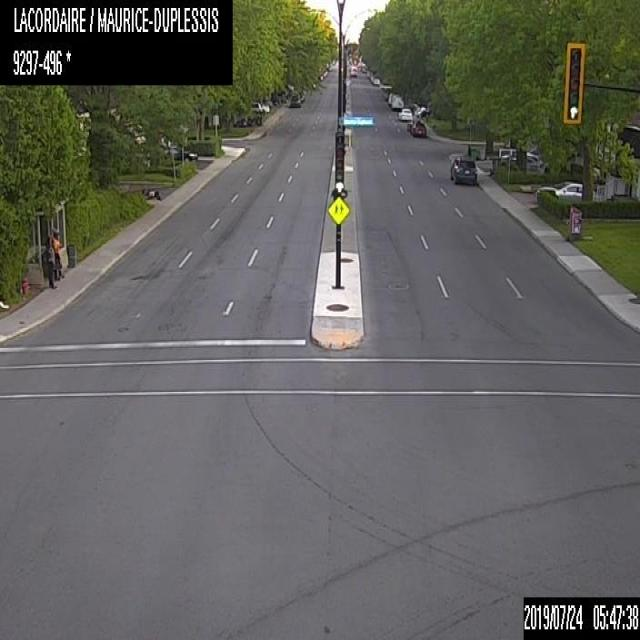bus: (349, 65, 357, 76)
pedestrian: (45, 228, 55, 288), (52, 229, 63, 279)
vehicle: (536, 180, 596, 202), (499, 153, 545, 171), (449, 157, 476, 184), (162, 145, 196, 162), (498, 147, 537, 161), (410, 119, 425, 136), (390, 94, 404, 110), (250, 101, 268, 112), (398, 107, 411, 121), (289, 93, 300, 105), (372, 76, 380, 85), (387, 92, 392, 105), (299, 91, 304, 101)
